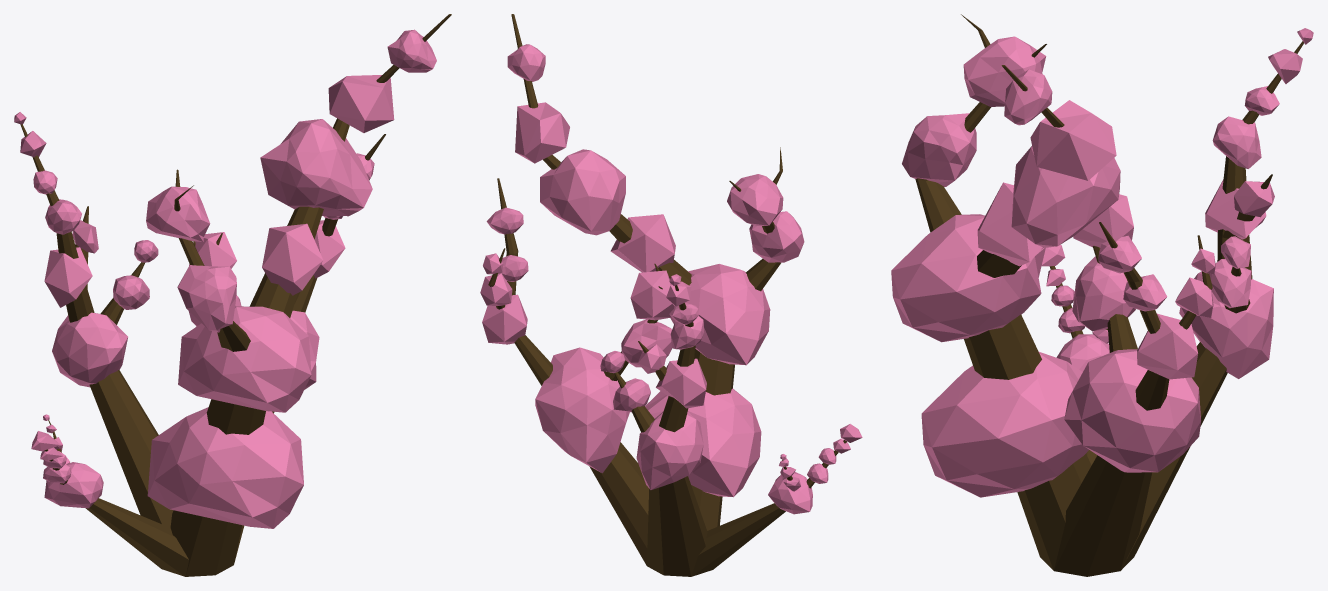
The model's file is pink_bush 1.fbx.
3 renders of one model, left to right at view 1: azimuth 30°, elevation 25°; view 2: azimuth 150°, elevation 25°; view 3: azimuth 270°, elevation 25°, orthographic. The views are drawn at different scales.
Parts seen in each view (by area): view 1: Cylinder, Icosphere.033, Icosphere.010, Icosphere.024, Icosphere.011, Icosphere.022, Icosphere.021, Icosphere.023, Icosphere.020, Icosphere.014, Icosphere, Icosphere.025 (+6 smaller); view 2: Cylinder, Icosphere.009, Icosphere.010, Icosphere.033, Icosphere.024, Icosphere.011, Icosphere.023, Icosphere.022, Icosphere.020, Icosphere.021, Icosphere.032, Icosphere.014 (+10 smaller); view 3: Cylinder, Icosphere.033, Icosphere.010, Icosphere.009, Icosphere.024, Icosphere.011, Icosphere.023, Icosphere.021, Icosphere.020, Icosphere.031, Icosphere.026, Icosphere.022 (+13 smaller).
Part boxes in pixels (x1,y1,x2,y2): Cylinder: (20,14,451,576); Icosphere.033: (147,407,303,528); Icosphere.010: (178,306,311,412); Icosphere.024: (260,119,372,216); Icosphere.011: (52,312,127,387); Icosphere.022: (262,223,323,295); Icosphere.021: (177,265,236,332); Icosphere.023: (328,75,394,132); Icosphere.020: (146,186,210,241); Icosphere.014: (44,247,92,307); Icosphere: (44,462,103,508); Icosphere.025: (387,29,436,72); Cylinder: (488,14,846,576); Icosphere.009: (535,347,629,473); Icosphere.010: (670,264,770,365); Icosphere.033: (645,388,761,497); Icosphere.024: (540,149,625,235); Icosphere.011: (636,411,703,489); Icosphere.023: (515,102,569,163); Icosphere.022: (610,214,675,272); Icosphere.020: (727,174,783,225); Icosphere.021: (749,211,804,262); Icosphere.032: (630,270,674,320); Icosphere.014: (656,358,706,408); Cylinder: (915,14,1303,576); Icosphere.033: (921,351,1088,497); Icosphere.010: (891,214,1045,342); Icosphere.009: (1064,349,1200,472); Icosphere.024: (1011,146,1120,247); Icosphere.011: (1179,271,1273,378); Icosphere.023: (1030,100,1116,180); Icosphere.021: (902,113,976,186); Icosphere.020: (963,36,1046,106); Icosphere.031: (1072,256,1135,331); Icosphere.026: (1137,313,1198,379); Icosphere.022: (977,182,1043,266).
Bounding box in the file's own units: 41.48 × 51.13 × 31.62.
